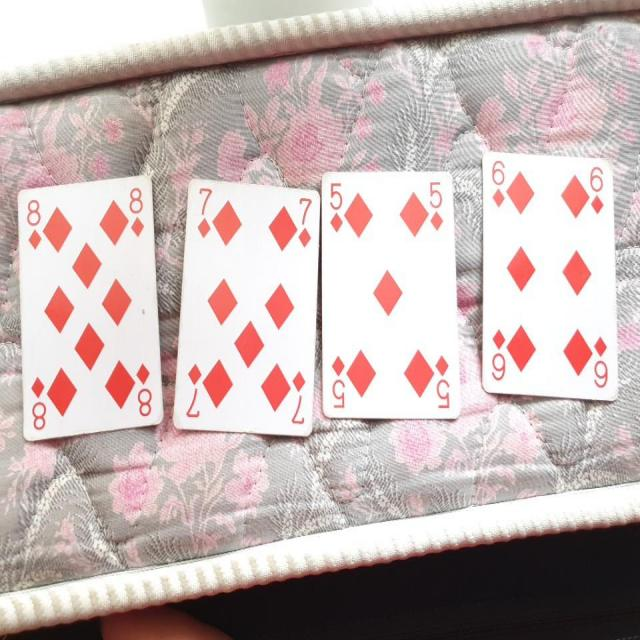5 Diamonds: (318, 166, 459, 417)
6 Diamonds: (478, 150, 620, 401)
7 Diamonds: (172, 176, 320, 437)
8 Diamonds: (16, 170, 166, 442)
